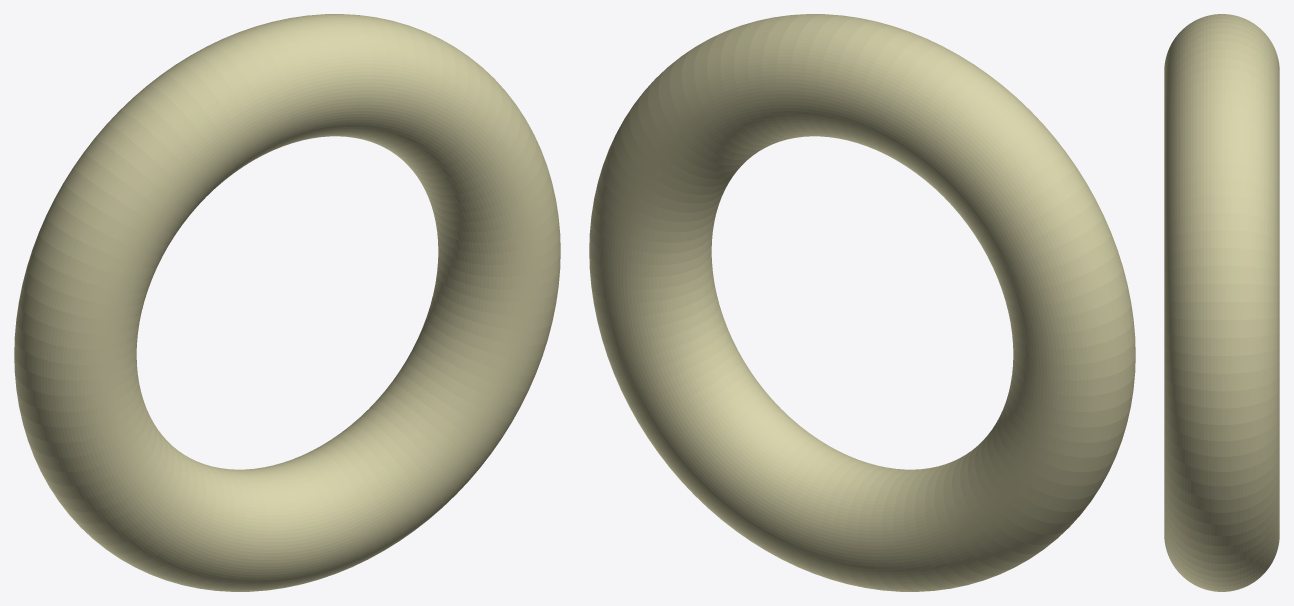
3 views of the same model, side by side, from view 1: azimuth 30°, elevation 25°; view 2: azimuth 150°, elevation 25°; view 3: azimuth 270°, elevation 25° (orthographic). The views are drawn at different scales.
Visible parts, largest first — view 1: world; view 2: world; view 3: world.
Boxes of the visible parts, x1,y1,x2,y2 form: world: (14,14,560,591); world: (589,14,1135,591); world: (1164,14,1279,591).
Size of the model in its own units: 20 by 20 by 4.
